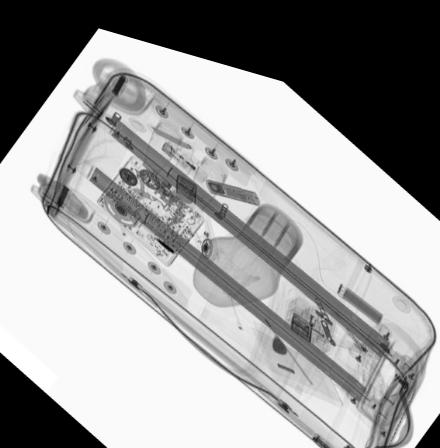Lighter: (161, 130, 209, 174)
